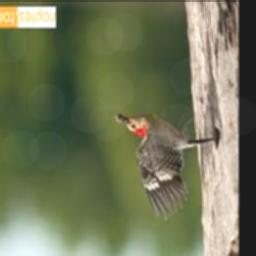Woodpecker: (124, 112, 216, 222)
